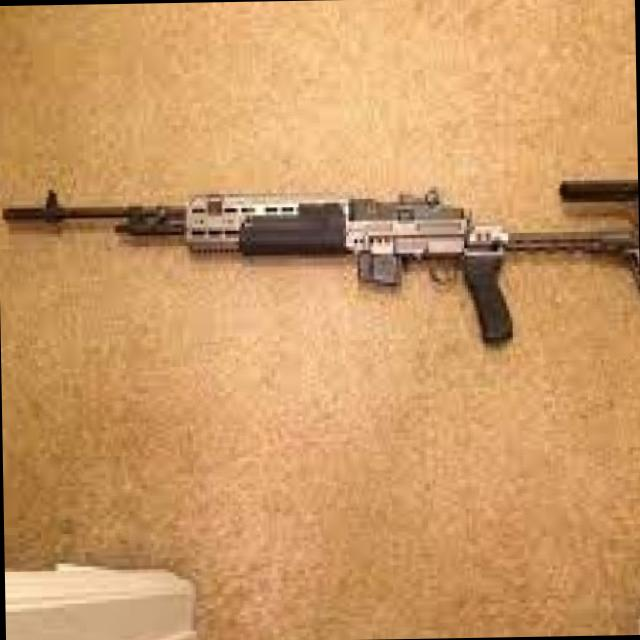Gun: (7, 136, 640, 403)
